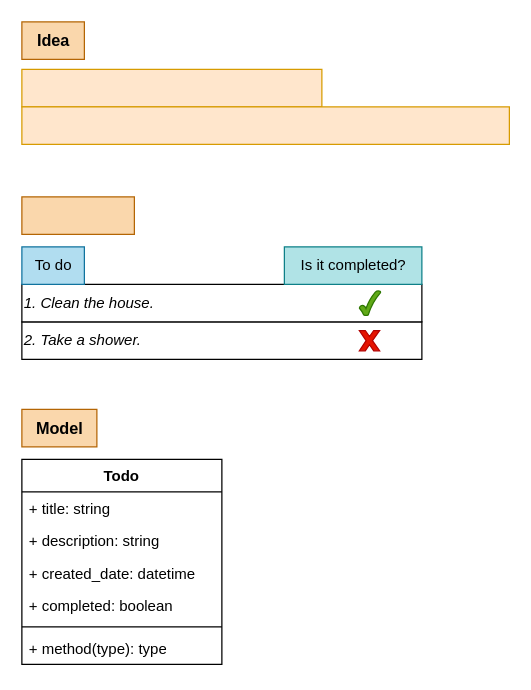
This 531x690 diagram has some shape labels left out. The shapes that lost their labels are listed below. From the top down, each one's centre as x and y in pixels, then its label:
point 171,87: 1. You have the things must be complete.
point 265,125: 2. You need to keep track the things. Is it completed or in processing?
point 77,215: Exampl UI
